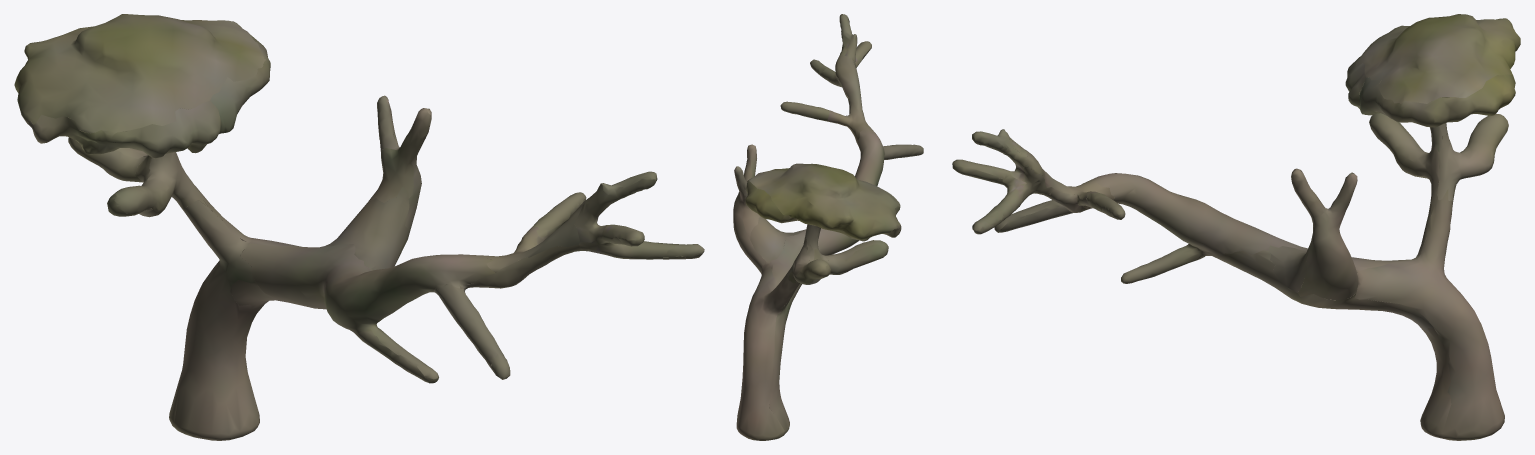
The model's file is boulder_01_lod0.glb.
3 views of the same model, side by side, from view 1: azimuth 30°, elevation 25°; view 2: azimuth 150°, elevation 25°; view 3: azimuth 270°, elevation 25° (orthographic). The views are drawn at different scales.
Visible parts, largest first — view 1: candidate_013_lod0; view 2: candidate_013_lod0; view 3: candidate_013_lod0.
Boxes of the visible parts, bbox=[...] form: candidate_013_lod0: bbox=[14, 14, 704, 440]; candidate_013_lod0: bbox=[733, 14, 923, 440]; candidate_013_lod0: bbox=[952, 14, 1520, 440].
Bounding box in the file's own units: 0.1247 × 0.125 × 0.1754.
1 material, 1 textured.
